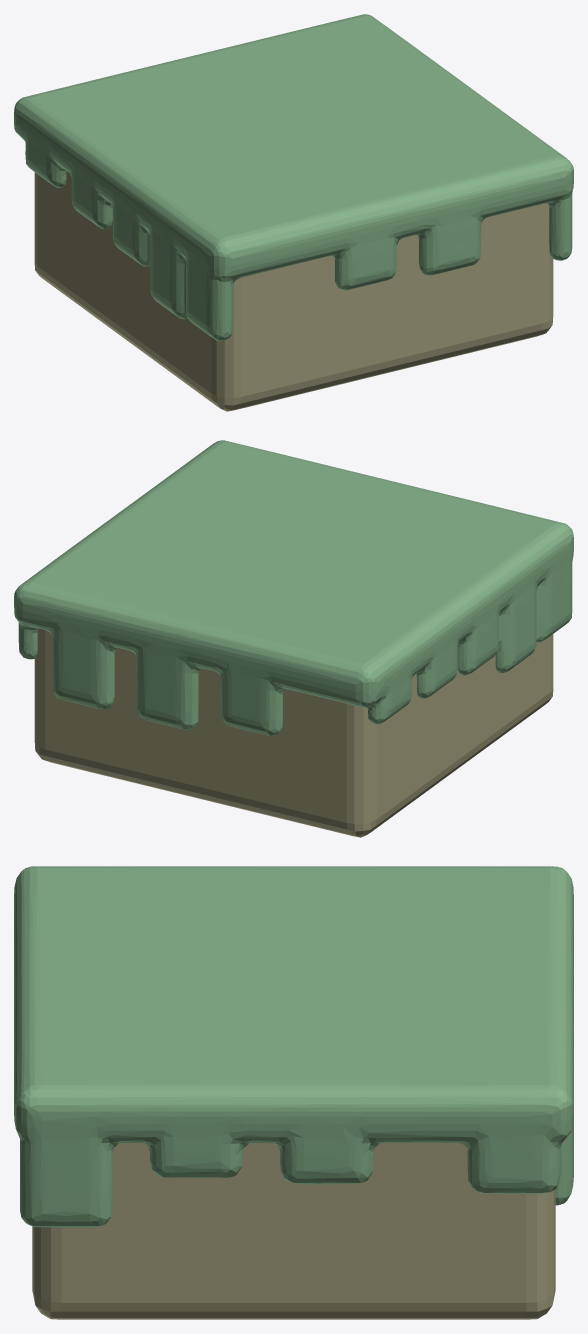
Rendered from Block_2_POGGERS.fbx.
3 renders of one model, top to bottom at view 1: azimuth 30°, elevation 25°; view 2: azimuth 150°, elevation 25°; view 3: azimuth 270°, elevation 25°, orthographic. The views are drawn at different scales.
Visible parts, largest first — view 1: GRASS6:Mesh1; view 2: GRASS6:Mesh1; view 3: GRASS6:Mesh1.
Boxes of the visible parts, x1,y1,x2,y2 form: GRASS6:Mesh1: (14,14,573,411); GRASS6:Mesh1: (14,440,573,837); GRASS6:Mesh1: (14,866,573,1319).
Size of the model in its own units: 107 by 51.1 by 107.
